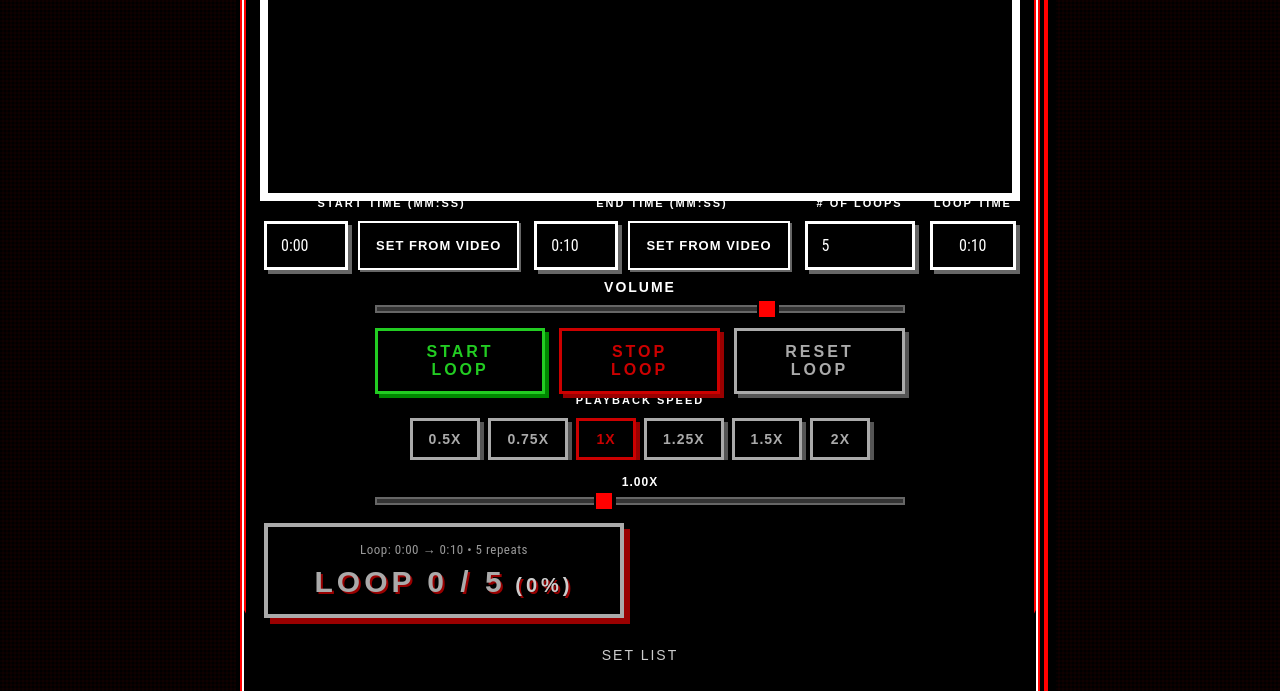
Scenario: App › uses ENDED as a fallback loop completion path when polling has not completed the cycle
(page scrolled)
expect the button "Reset Loop" is enabled: met, box x1=734 y1=328 x2=905 y2=394
Click the button "Start Loop". click: (460, 361)
box: x1=375 y1=328 x2=545 y2=394
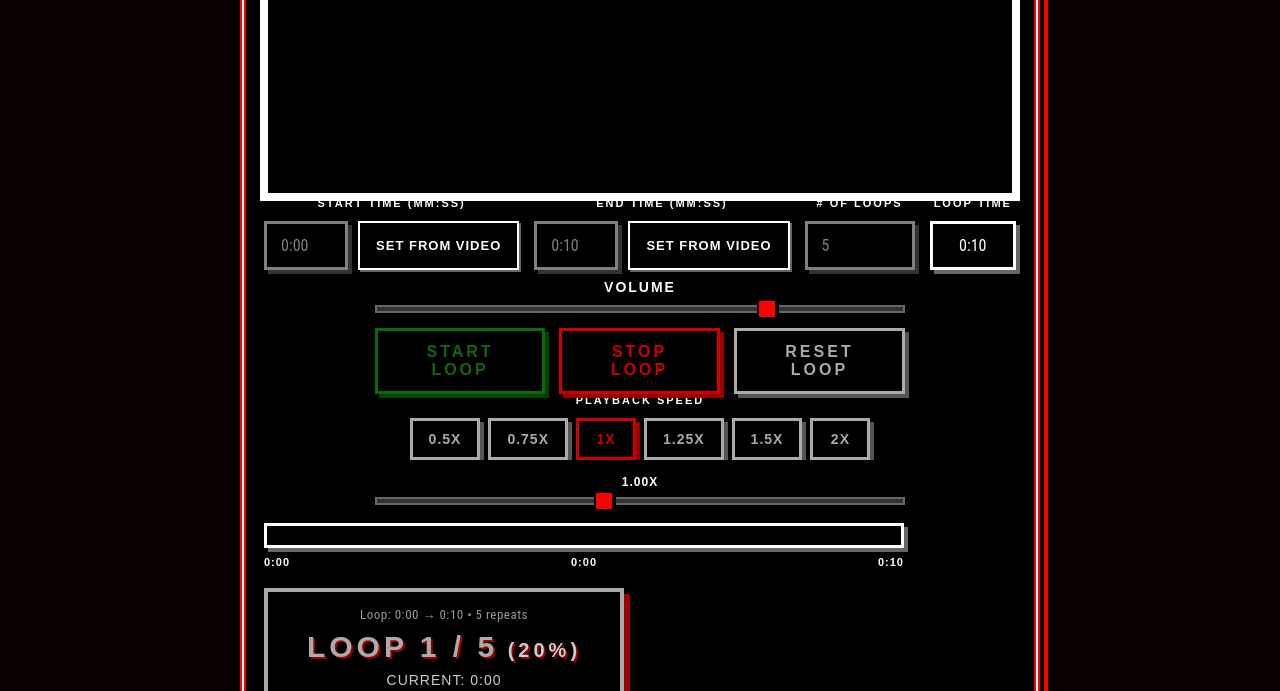
expect the text "Loop 1 / 5 (20%)" is shown: met, box x1=286 y1=630 x2=602 y2=664
